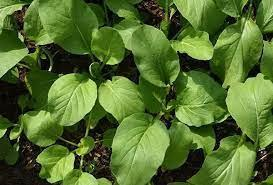Healthy-Pechay: (0, 2, 273, 176)
